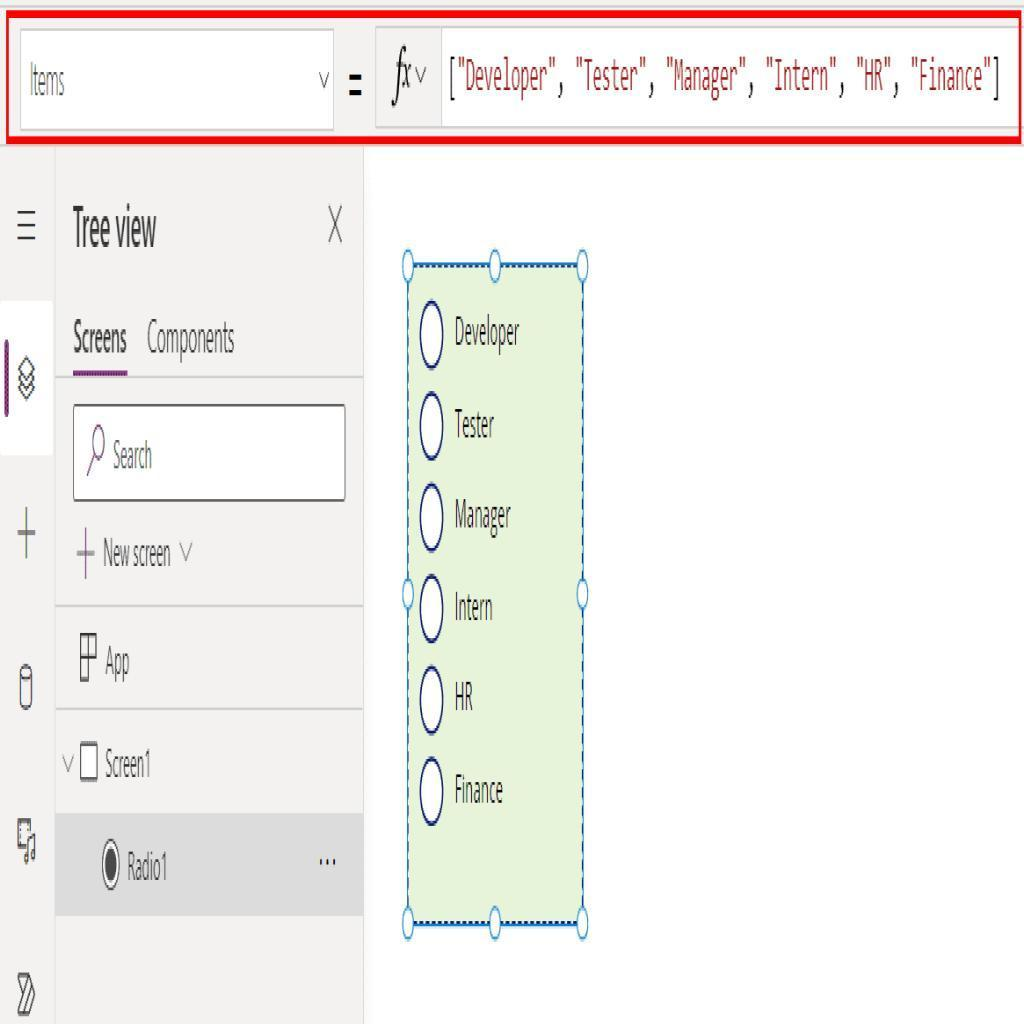checkbox: (78, 741, 101, 783)
dropdown: (22, 20, 336, 135)
icon: (7, 806, 51, 870), (13, 500, 49, 575), (69, 620, 103, 693), (10, 202, 51, 260), (10, 653, 42, 721), (12, 964, 46, 1017), (84, 421, 110, 485), (15, 353, 42, 405), (71, 525, 94, 586), (323, 200, 354, 243), (312, 845, 344, 886)
input: (76, 406, 344, 500)
radio: (417, 756, 450, 832), (416, 570, 446, 650), (418, 298, 450, 369), (418, 666, 450, 737), (419, 480, 445, 556), (421, 392, 444, 464), (100, 837, 121, 896)
